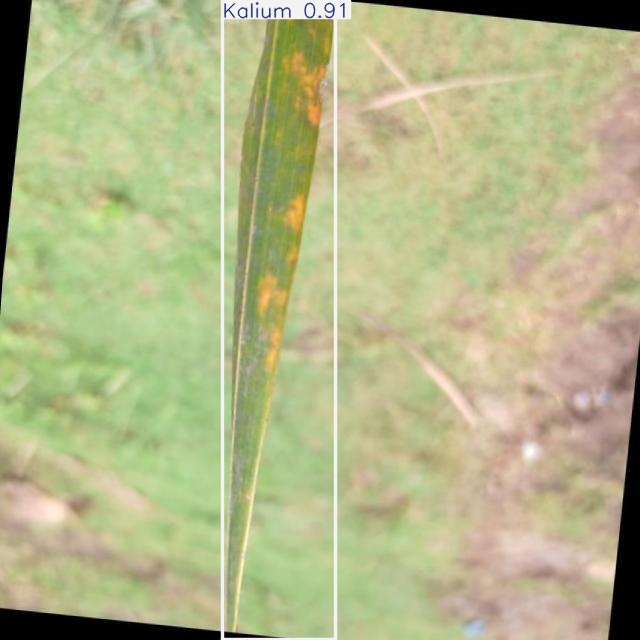Kalium: (222, 0, 335, 639)
